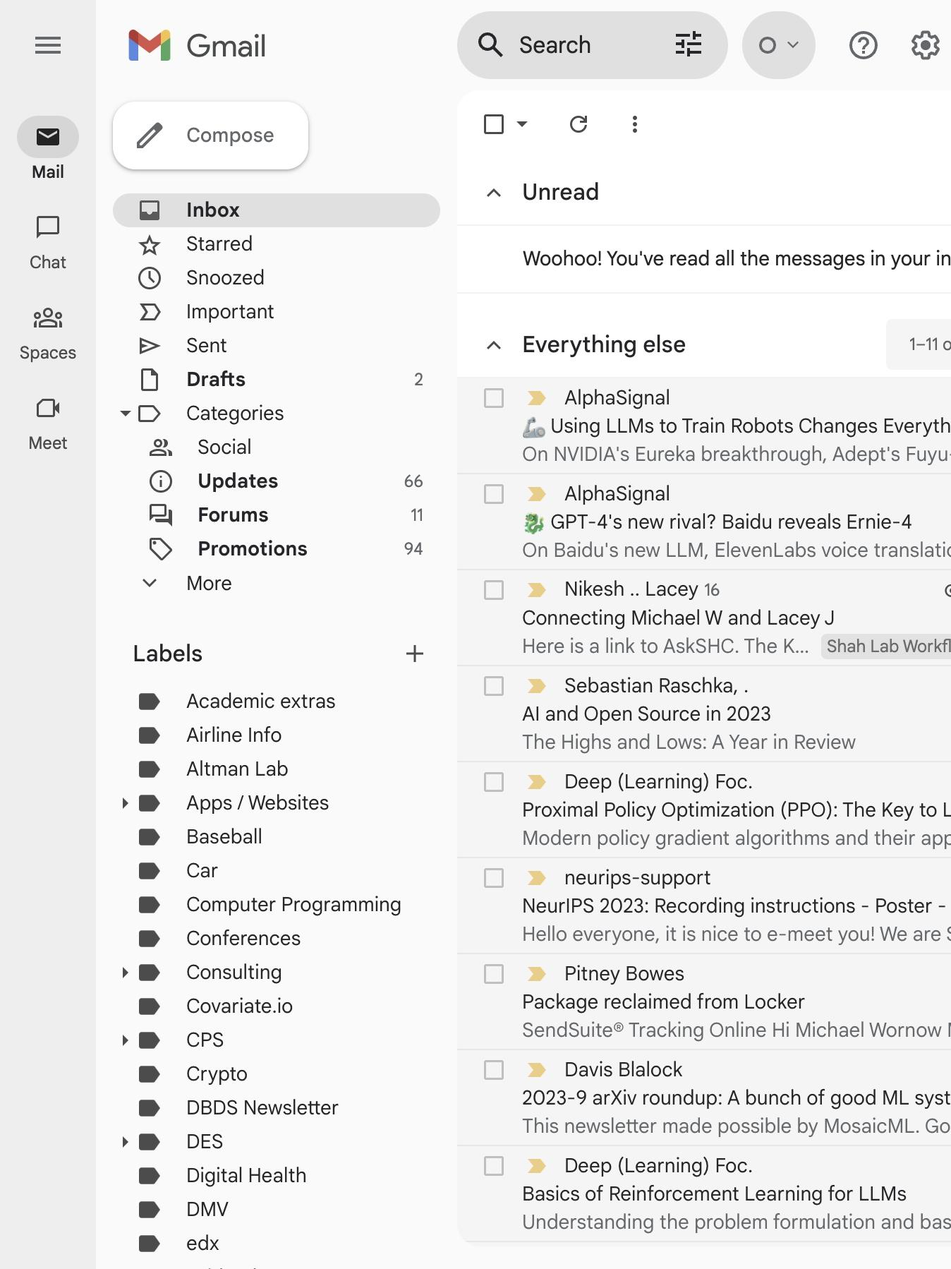webelement: (456, 377, 951, 1269), (95, 683, 439, 1269), (95, 192, 439, 599), (0, 89, 95, 1268), (0, 0, 951, 89), (456, 157, 951, 292), (456, 377, 951, 473), (456, 473, 951, 569), (456, 569, 951, 665), (456, 665, 951, 761), (456, 761, 951, 857), (456, 857, 951, 953), (456, 953, 951, 1049), (456, 1049, 951, 1145), (456, 1145, 951, 1241), (521, 411, 951, 467), (521, 507, 951, 563), (521, 603, 951, 659), (521, 699, 951, 755), (521, 795, 951, 851), (521, 891, 951, 947), (521, 987, 951, 1043), (521, 1083, 951, 1139), (521, 1179, 951, 1235), (456, 10, 727, 78), (456, 1241, 951, 1269), (111, 100, 306, 168), (467, 318, 696, 368), (111, 565, 439, 599), (563, 670, 910, 699), (563, 766, 910, 795), (563, 862, 910, 891), (563, 958, 910, 987), (563, 1054, 910, 1083), (563, 1150, 910, 1179), (563, 383, 910, 411), (563, 479, 910, 507), (563, 575, 910, 603), (563, 1246, 910, 1269), (131, 638, 399, 666), (467, 165, 610, 216), (185, 891, 401, 916), (648, 10, 727, 75), (741, 10, 814, 78), (13, 10, 80, 78), (456, 10, 523, 78), (185, 687, 334, 713), (185, 1094, 337, 1119), (185, 789, 327, 814), (834, 16, 890, 72), (896, 16, 951, 72), (890, 318, 951, 368), (185, 1162, 305, 1187), (185, 925, 299, 950), (185, 992, 292, 1018), (196, 535, 306, 560), (16, 114, 78, 157), (16, 385, 78, 428), (185, 755, 286, 781), (16, 205, 78, 247), (16, 295, 78, 337), (185, 399, 282, 425), (185, 721, 281, 747), (185, 958, 281, 984), (0, 340, 95, 363), (185, 298, 272, 323), (196, 467, 277, 493), (0, 160, 95, 182), (0, 250, 95, 272), (0, 431, 95, 453), (518, 30, 591, 58), (185, 264, 264, 289), (185, 823, 261, 848), (196, 501, 267, 527), (185, 230, 251, 255), (478, 109, 535, 137), (185, 1060, 247, 1085), (185, 366, 244, 391), (196, 433, 250, 459), (185, 196, 238, 222), (185, 1196, 227, 1221), (185, 332, 226, 357), (185, 1026, 223, 1052), (185, 1128, 222, 1153), (185, 1229, 217, 1255), (399, 638, 428, 666), (619, 109, 648, 137), (521, 670, 549, 699), (521, 766, 549, 795), (521, 862, 549, 891), (521, 958, 549, 987), (521, 1054, 549, 1083), (521, 1150, 549, 1179), (185, 857, 217, 882), (507, 109, 535, 137), (563, 109, 591, 137), (521, 383, 549, 411), (521, 479, 549, 507), (521, 575, 549, 603), (521, 1246, 549, 1269), (521, 414, 545, 438), (521, 510, 545, 534), (185, 1263, 265, 1269)
